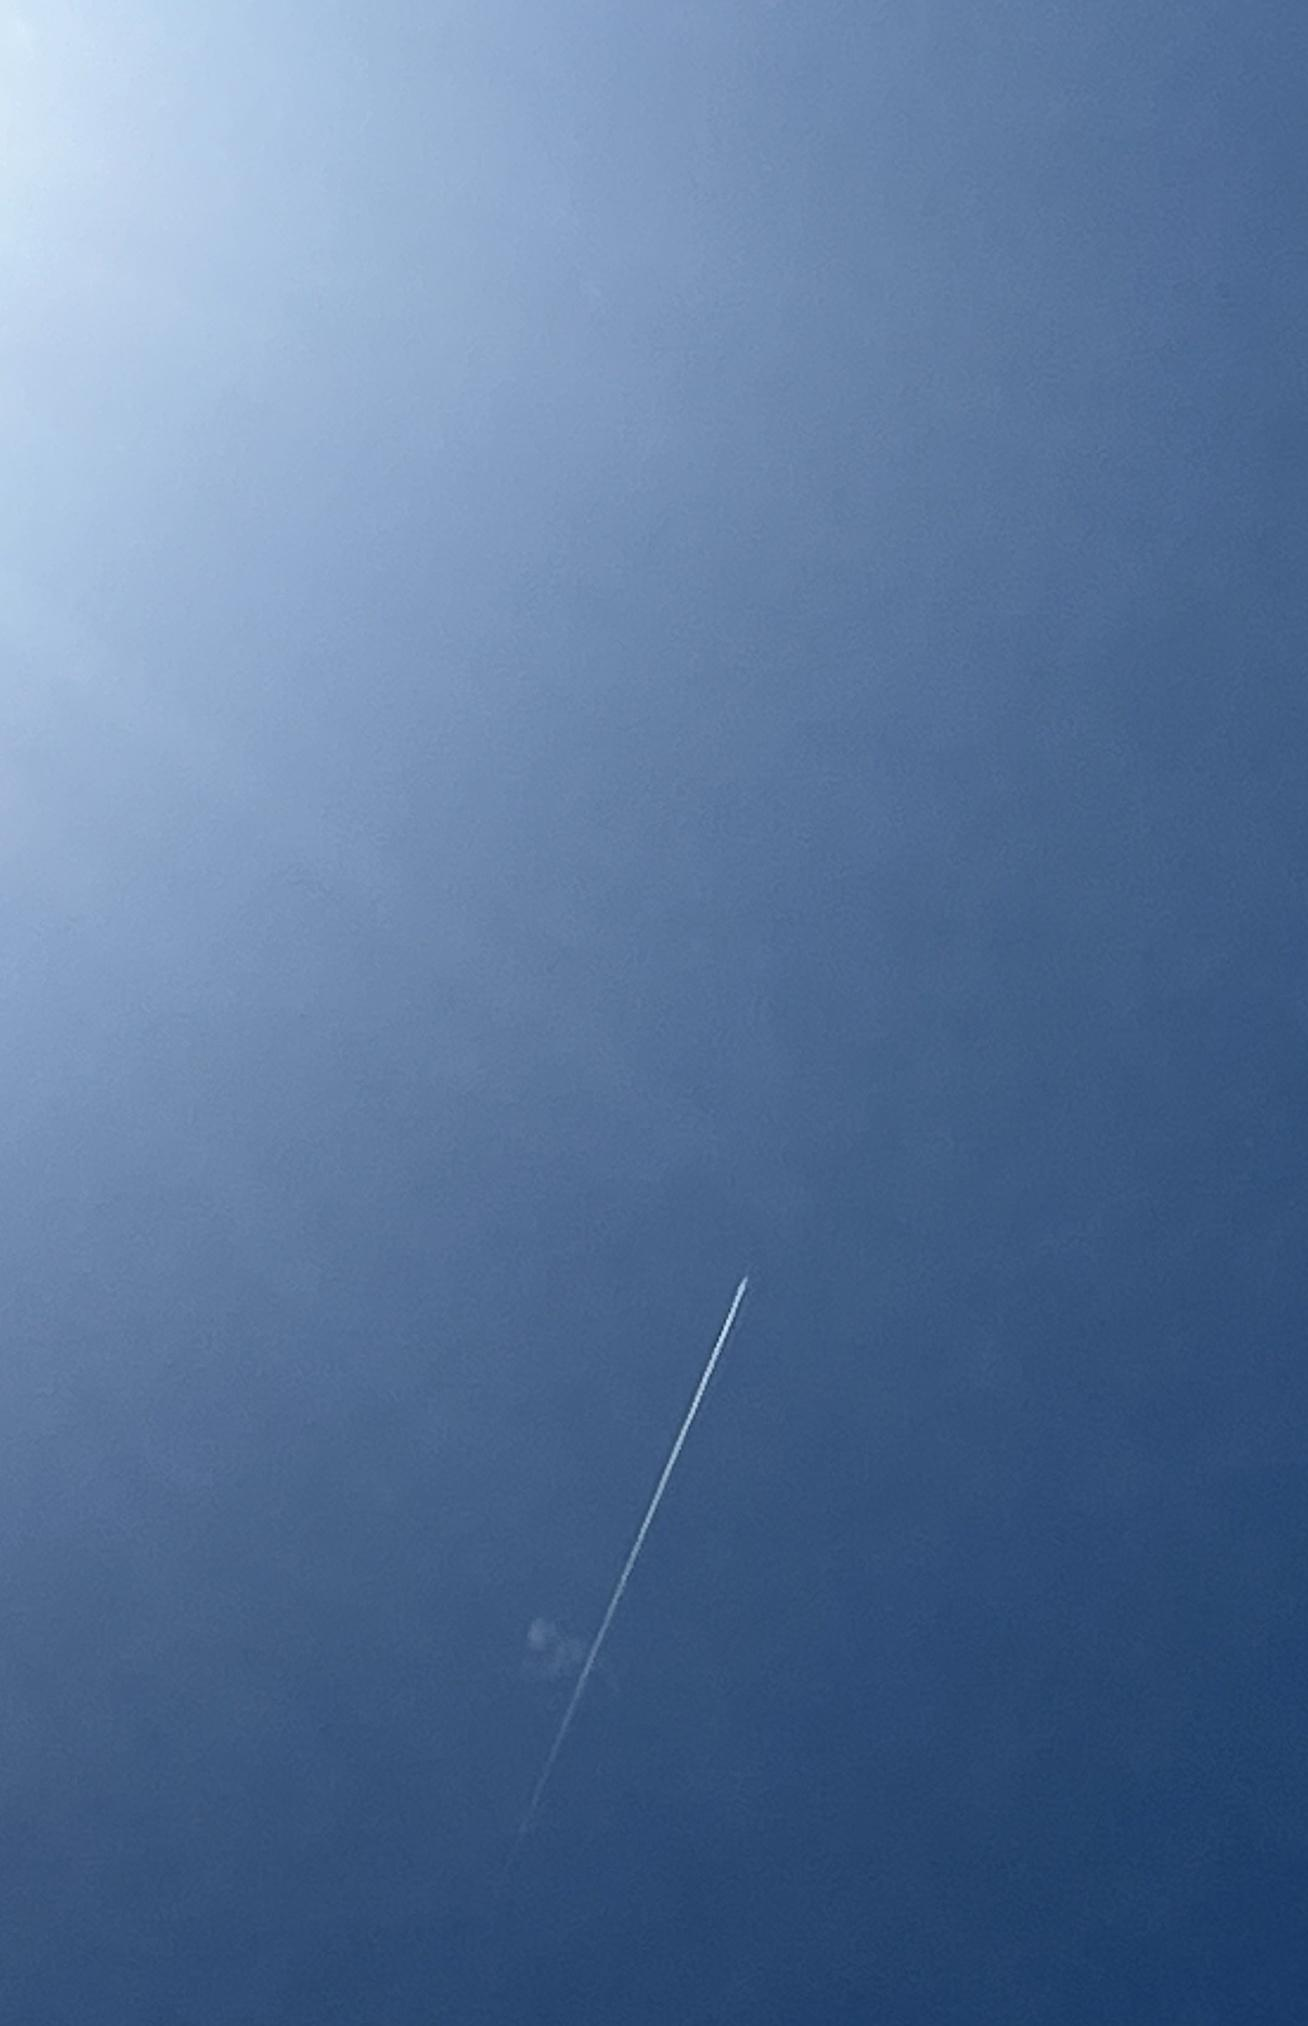Plane: (444, 1237, 856, 1709)
